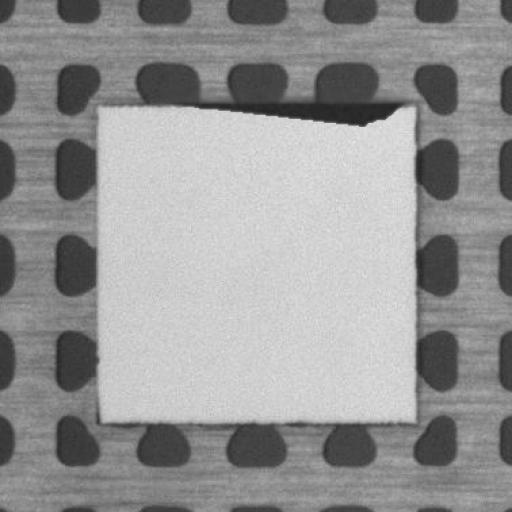DIE_BROKEN: (179, 96, 406, 128)
